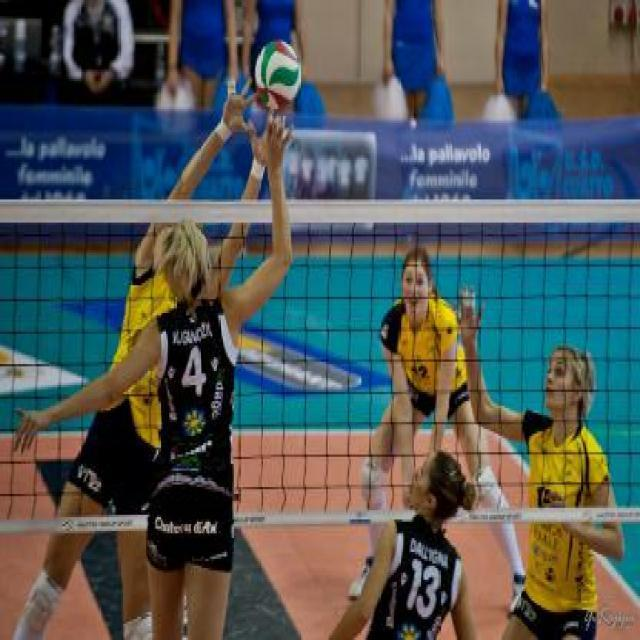volleyball: (255, 44, 302, 112)
